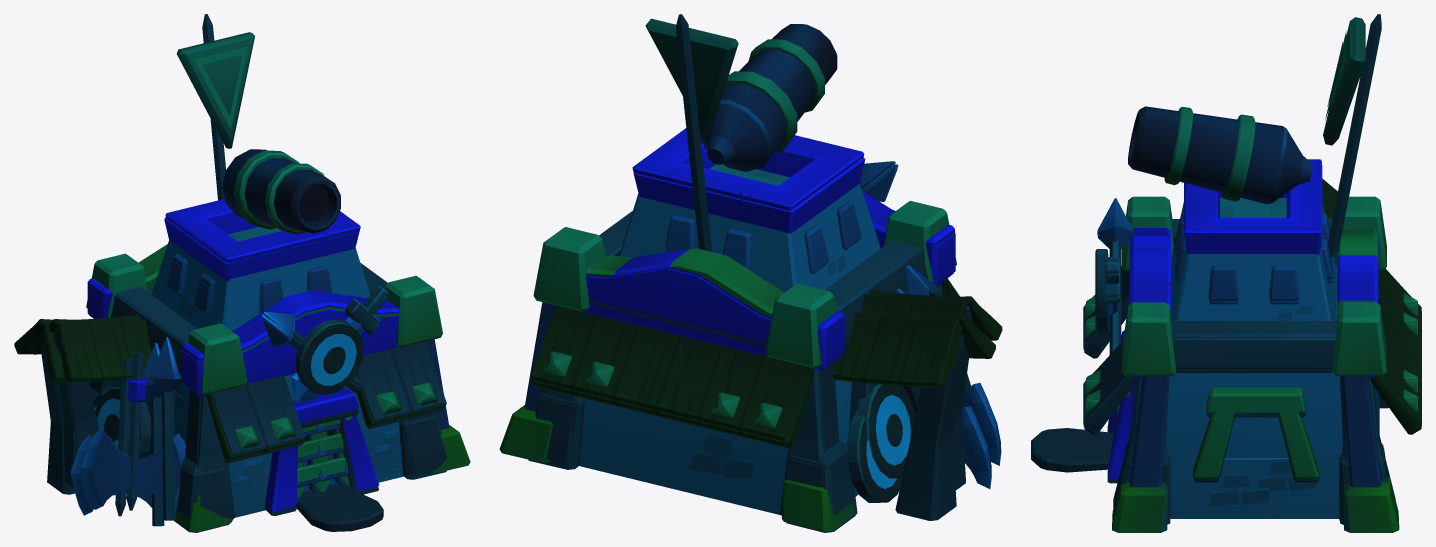
Rendered from Barracs1.fbx.
The picture shows the model from 3 angles, left to right: view 1: azimuth 30°, elevation 25°; view 2: azimuth 150°, elevation 25°; view 3: azimuth 270°, elevation 25°; orthographic projection. The views are drawn at different scales.
Visible parts, largest first — view 1: Barracs_T4, Barracs_T2, Barracs_T1, Barracs_T3; view 2: Barracs_T4, Barracs_T3, Barracs_T1, Barracs_T2; view 3: Barracs_T4, Barracs_T1, Barracs_T3, Barracs_T2.
Part boxes in pixels (box(x1,y1,x2,y2)): Barracs_T4: box(28, 14, 470, 531); Barracs_T2: box(87, 278, 444, 531); Barracs_T1: box(89, 263, 446, 519); Barracs_T3: box(14, 217, 446, 532); Barracs_T4: box(499, 14, 1002, 531); Barracs_T3: box(528, 149, 995, 532); Barracs_T1: box(535, 167, 954, 516); Barracs_T2: box(534, 164, 959, 529); Barracs_T4: box(1083, 14, 1421, 532); Barracs_T1: box(1095, 219, 1395, 518); Barracs_T3: box(1084, 165, 1421, 524); Barracs_T2: box(1031, 231, 1383, 520).
Bounding box in the file's own units: 5.14 × 5.63 × 4.43.
